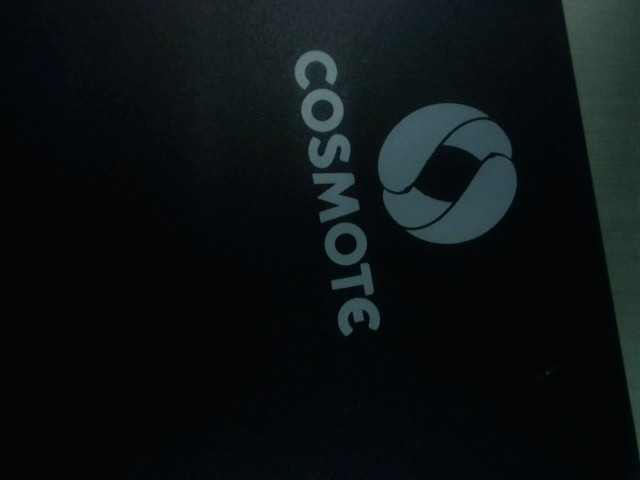AU_COSMOTE: (275, 42, 521, 350)
